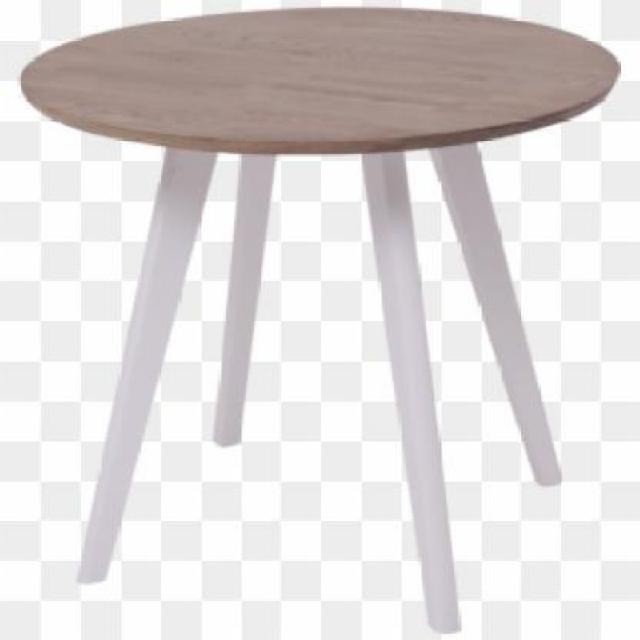table: (14, 6, 620, 639)
